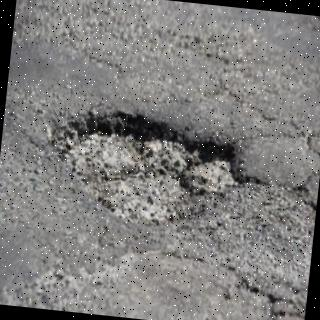pothole: (52, 112, 245, 222)
